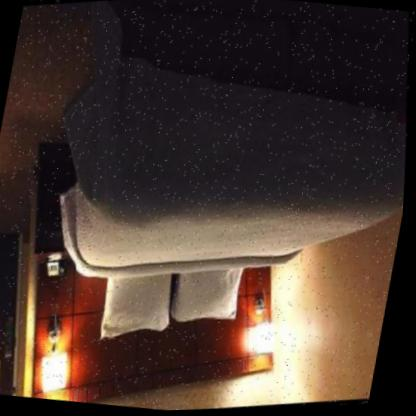Bed: (0, 0, 416, 388)
